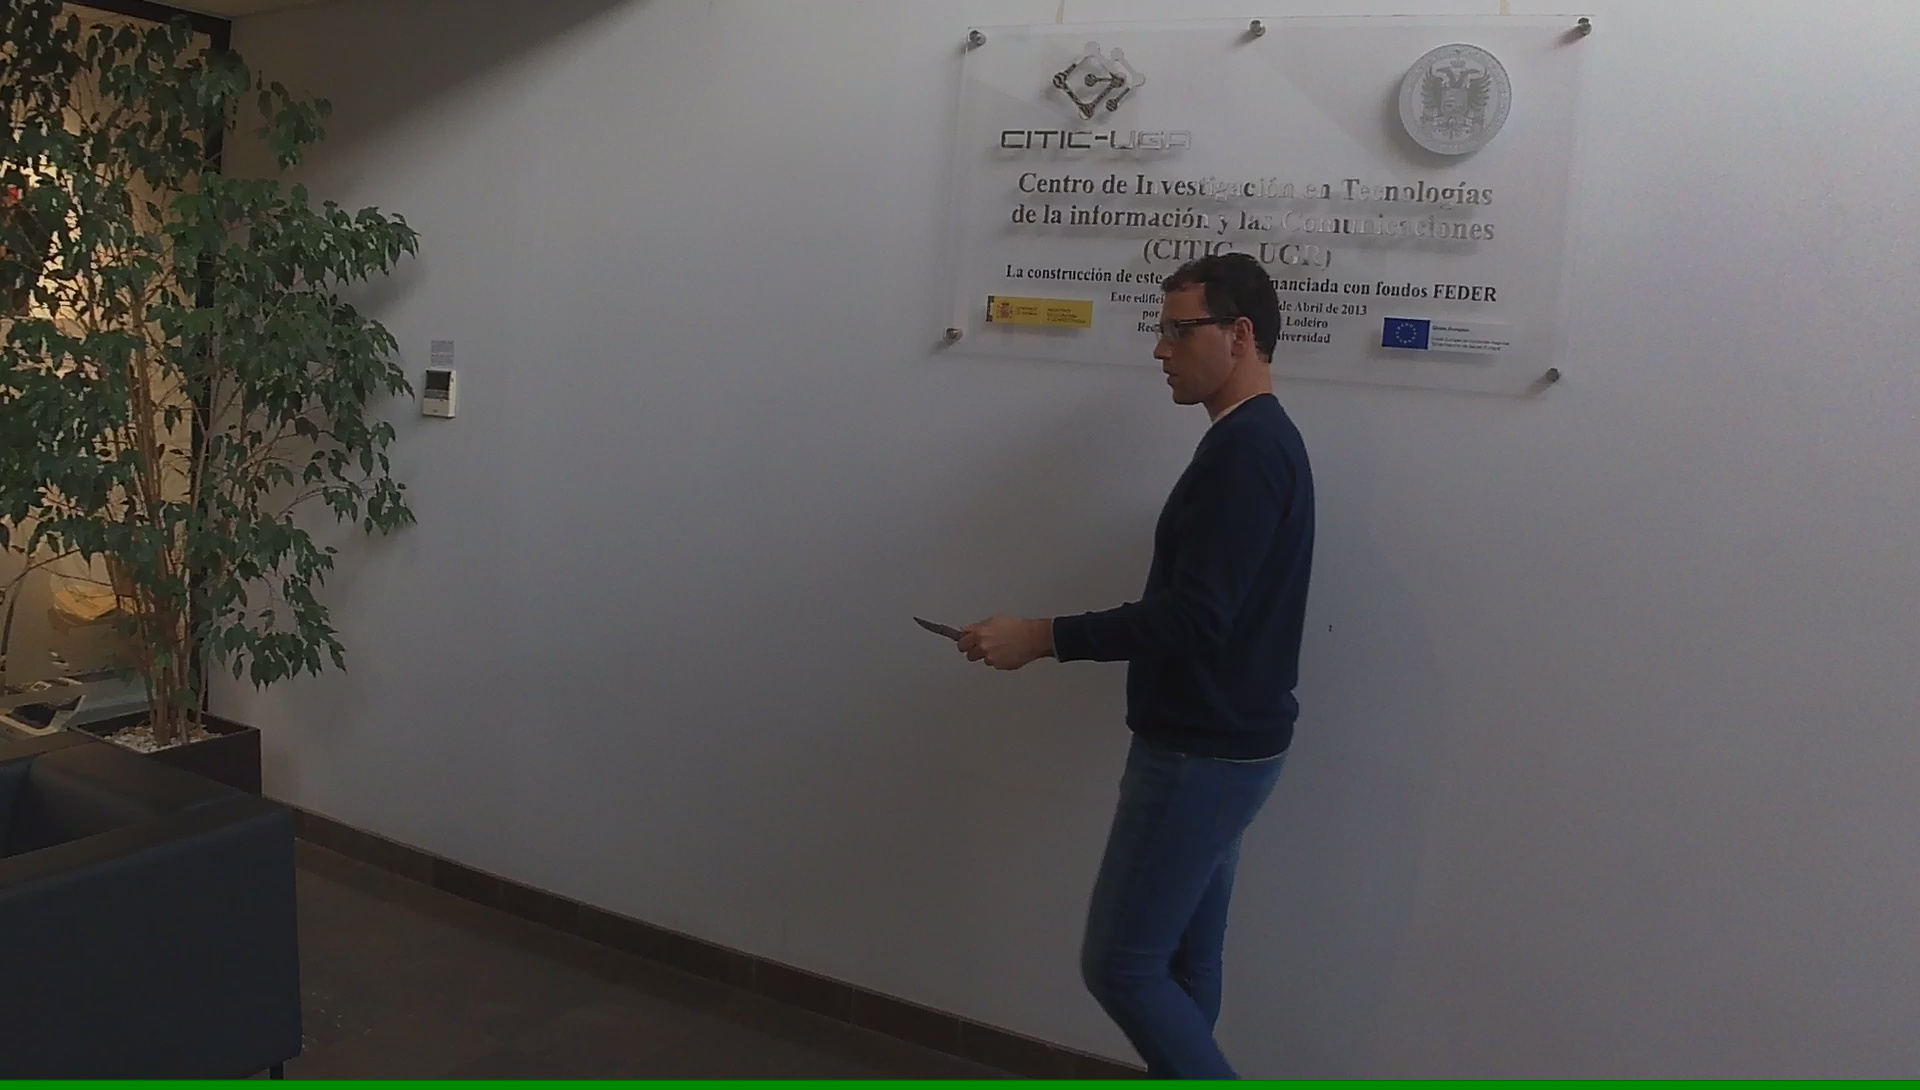knife: (903, 601, 1011, 677)
